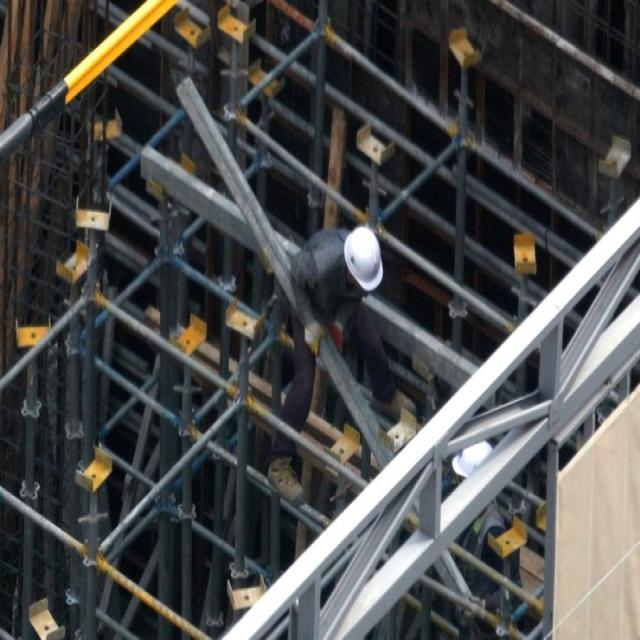gloves: (301, 314, 327, 360), (331, 316, 346, 359)
helmet: (344, 222, 384, 292), (454, 434, 495, 480)
